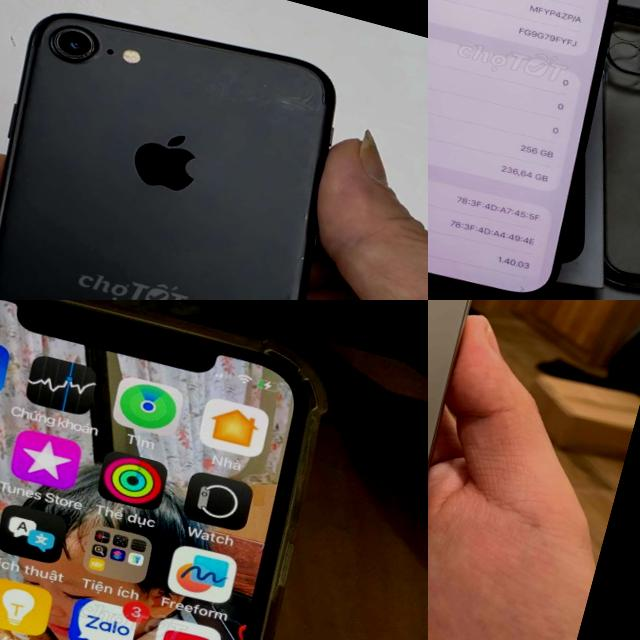gen_12_13: (0, 300, 390, 640)
gen_17: (428, 0, 640, 300)
gen_7_8: (0, 0, 405, 300)
scratch: (252, 68, 330, 122), (39, 15, 104, 68), (296, 193, 318, 225), (294, 248, 312, 268)
